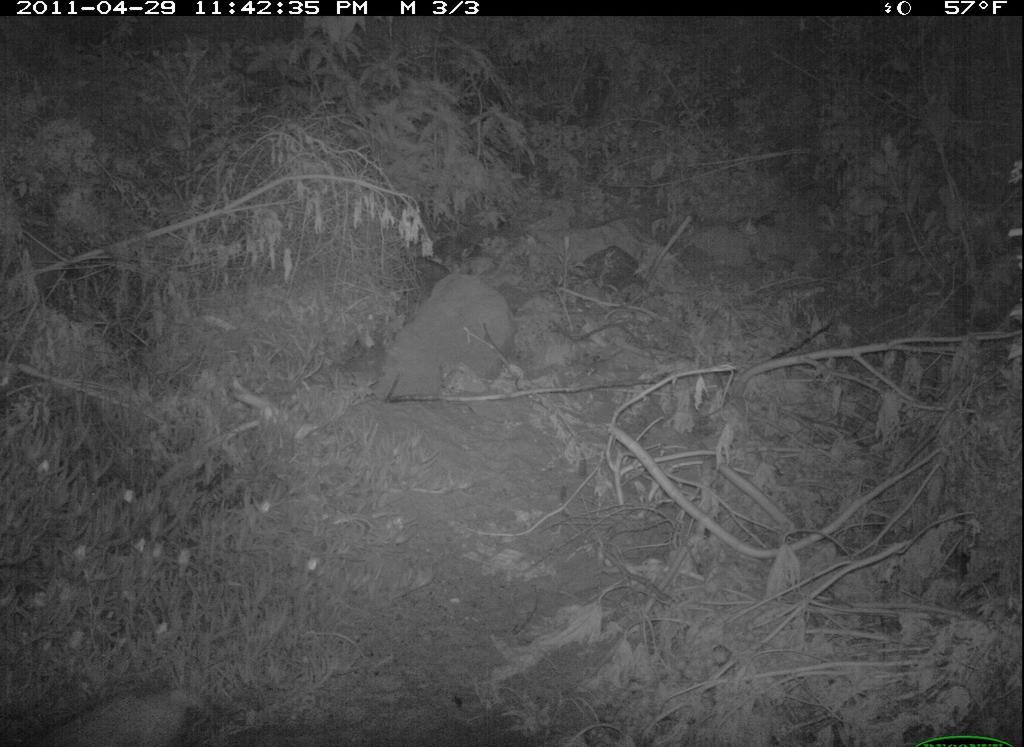bobcat: (29, 675, 240, 747)
